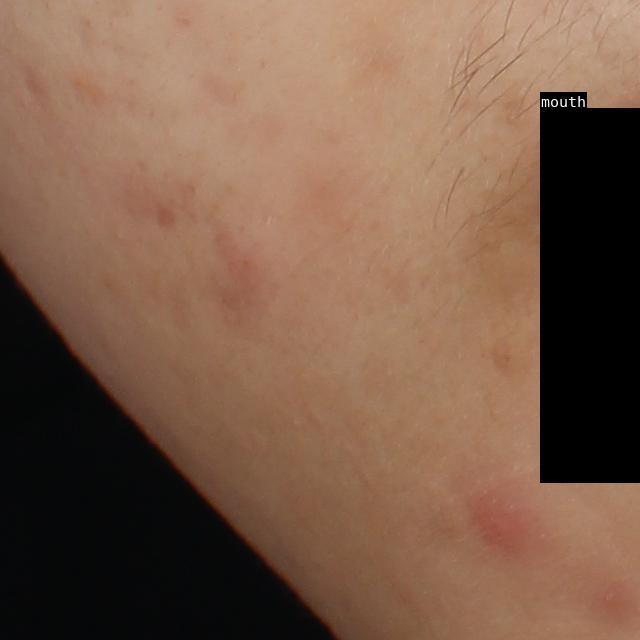papule: (463, 482, 542, 559)
